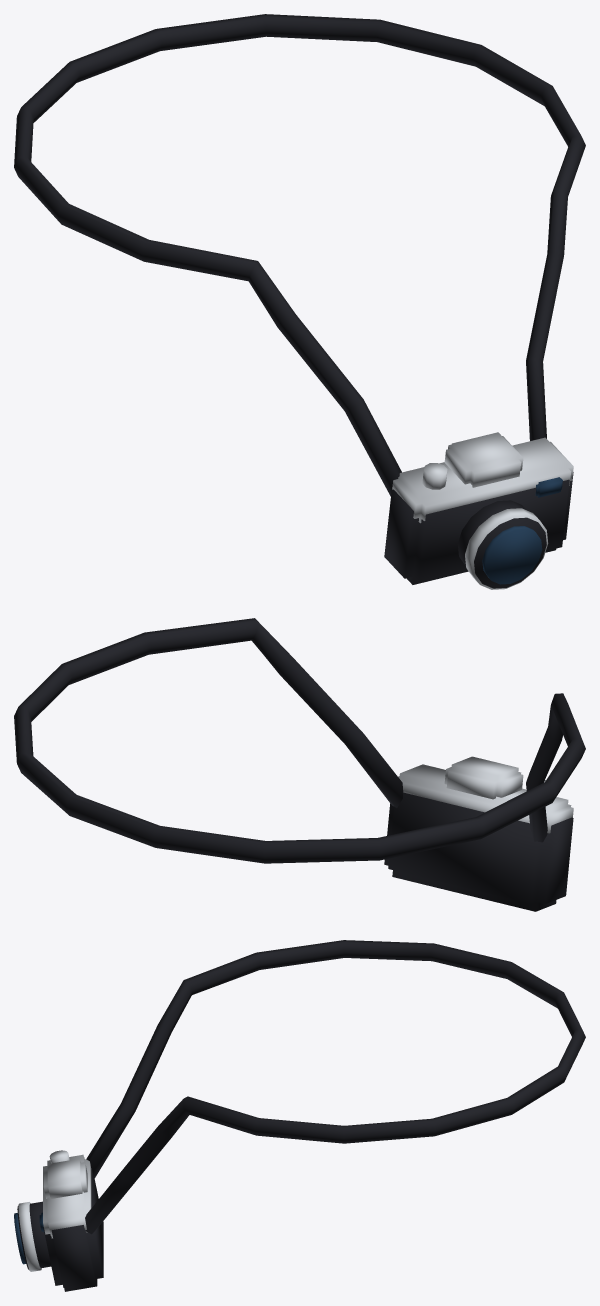
Rendered from cuello_camara.glb.
3 views of the same model, one above another, from view 1: azimuth 30°, elevation 25°; view 2: azimuth 150°, elevation 25°; view 3: azimuth 270°, elevation 25° (orthographic). The views are drawn at different scales.
Parts seen in each view (by area): view 1: cuello_camara; view 2: cuello_camara; view 3: cuello_camara.
Boxes of the visible parts, <box> form: cuello_camara: <box>14,14,585,589</box>; cuello_camara: <box>14,618,585,911</box>; cuello_camara: <box>14,940,585,1291</box>.
Bounding box in the file's own units: 0.6642 × 0.3868 × 0.8385.
